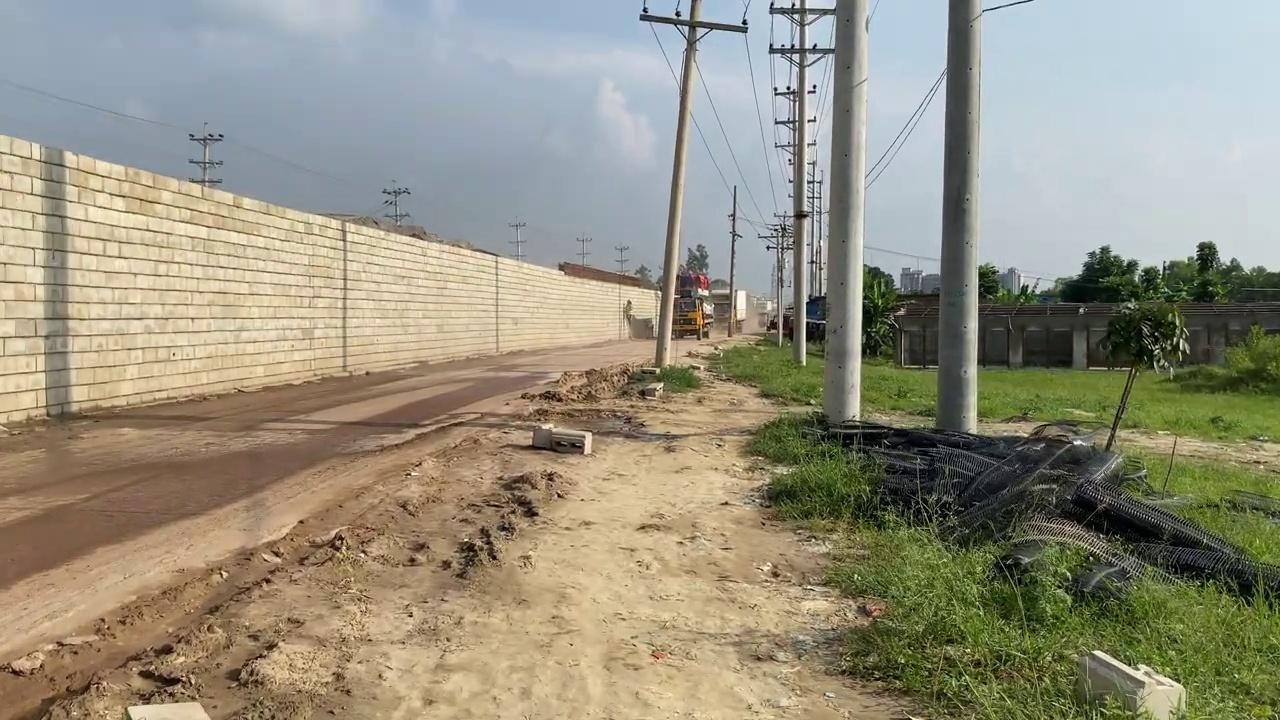Fence: (891, 300, 1278, 370)
Garbage: (797, 415, 1278, 609)
Obstacle: (1073, 648, 1187, 719), (531, 424, 592, 455), (121, 699, 210, 719)
Pole: (768, 0, 836, 366), (934, 0, 982, 434), (822, 0, 868, 424), (653, 1, 702, 369)
Rickshaw: (213, 328, 923, 720)
Tree: (624, 264, 711, 340), (670, 266, 711, 340)
Upstairs: (0, 132, 663, 425)
